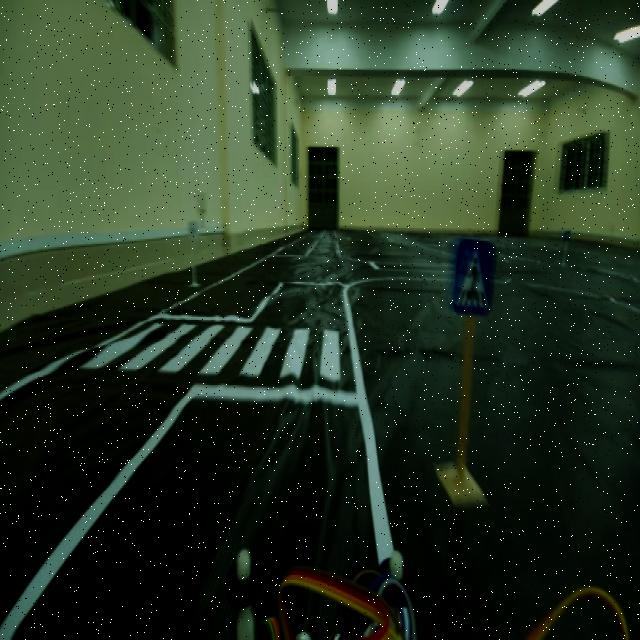crosswalk: (448, 227, 502, 316)
